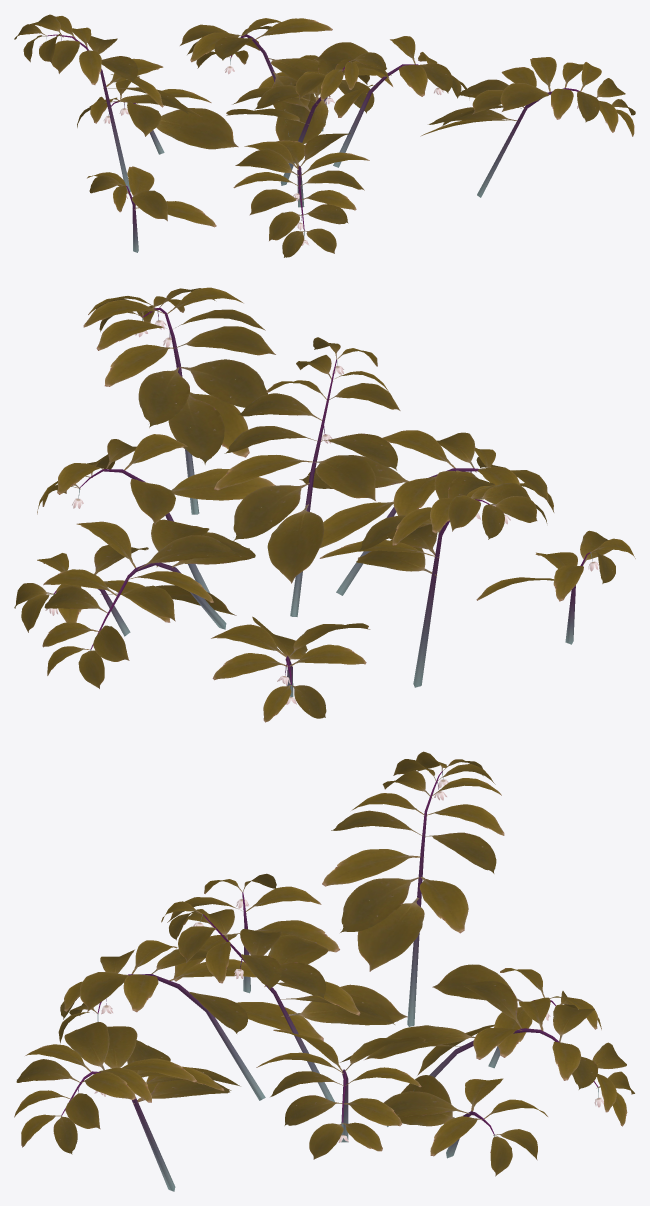
3 views of the same model, one above another, from view 1: azimuth 30°, elevation 25°; view 2: azimuth 150°, elevation 25°; view 3: azimuth 270°, elevation 25° (orthographic). The views are drawn at different scales.
Parts seen in each view (by area): view 1: SM_UmbS_Lily_01_LOD0; view 2: SM_UmbS_Lily_01_LOD0; view 3: SM_UmbS_Lily_01_LOD0.
Boxes of the visible parts, x1=… form: SM_UmbS_Lily_01_LOD0: x1=14, y1=14, x2=635, y2=257; SM_UmbS_Lily_01_LOD0: x1=14, y1=287, x2=635, y2=722; SM_UmbS_Lily_01_LOD0: x1=14, y1=751, x2=634, y2=1191.
Bounding box in the file's own units: 1.53 × 0.5423 × 1.36.
1 material, 1 textured.
